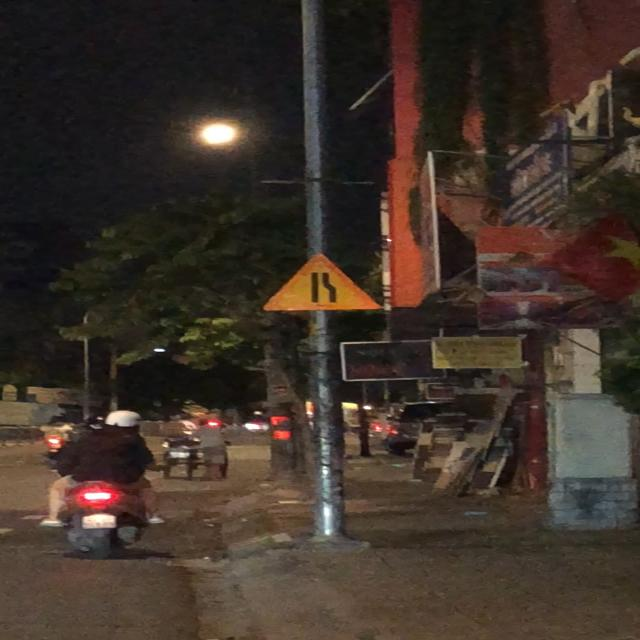Bien bao duong bi thu hep: (259, 248, 384, 312)
